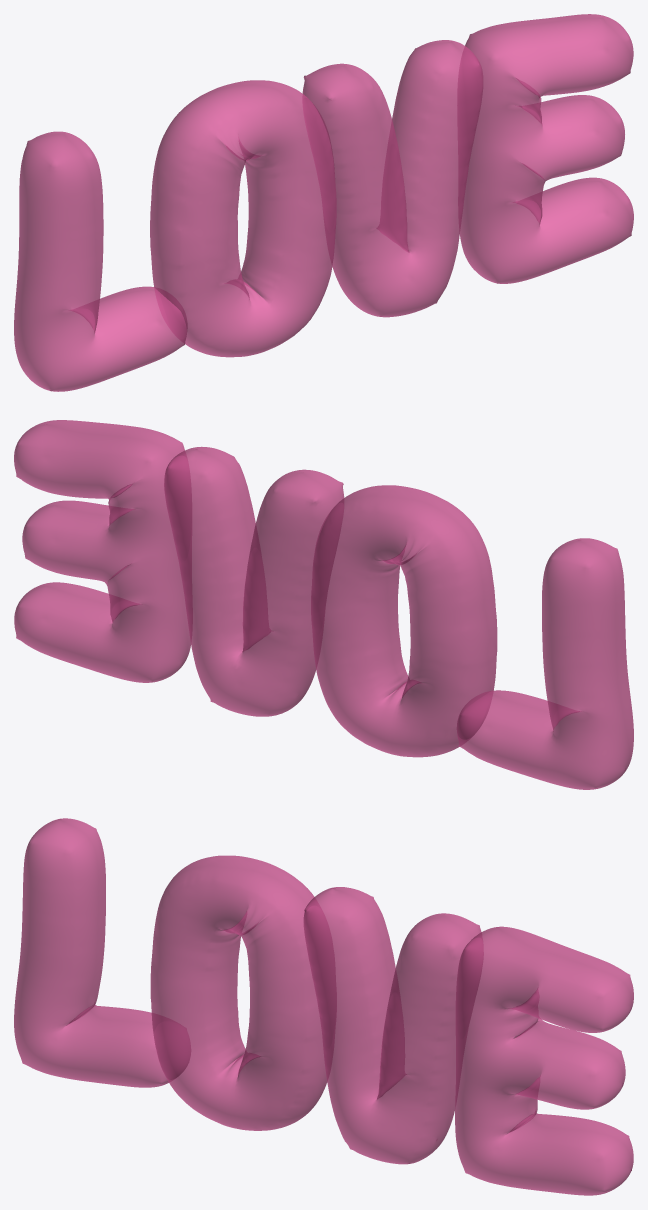
Rendered from love-balloon.glb.
3 views of the same model, one above another, from view 1: azimuth 30°, elevation 25°; view 2: azimuth 150°, elevation 25°; view 3: azimuth 330°, elevation 25° (orthographic).
Parts seen in each view (by area): view 1: LOVE; view 2: LOVE; view 3: LOVE.
Part boxes in pixels (x1,y1,x2,y2): LOVE: (14,14,633,391); LOVE: (14,420,633,789); LOVE: (14,818,633,1195).
Bounding box in the file's own units: 1.68 × 0.6971 × 0.2227.
